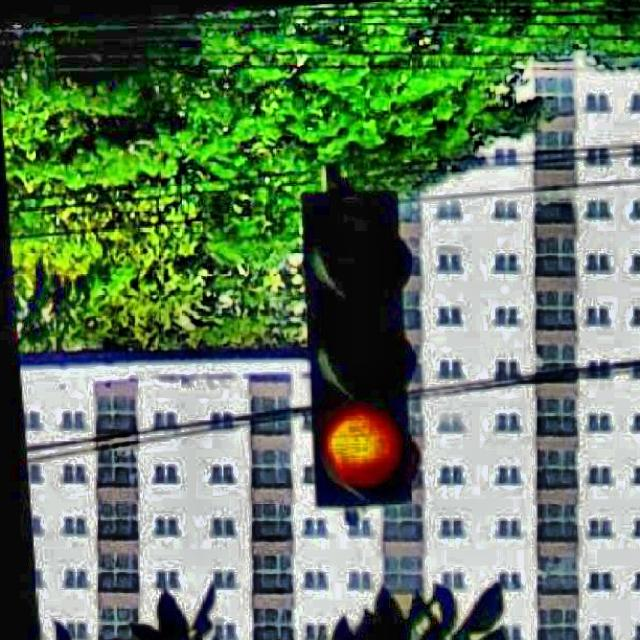red: (304, 185, 413, 518)
